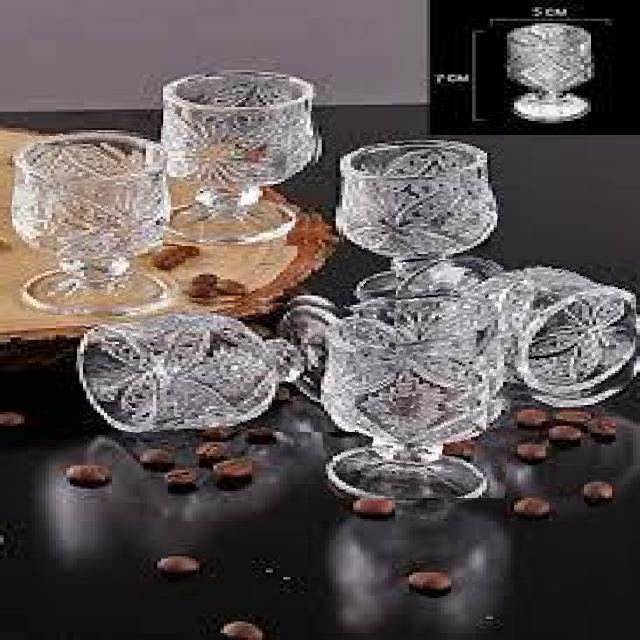Glass: (323, 293, 516, 498), (74, 294, 356, 432), (396, 261, 638, 408), (12, 129, 183, 315), (163, 68, 324, 246), (336, 138, 498, 308)
